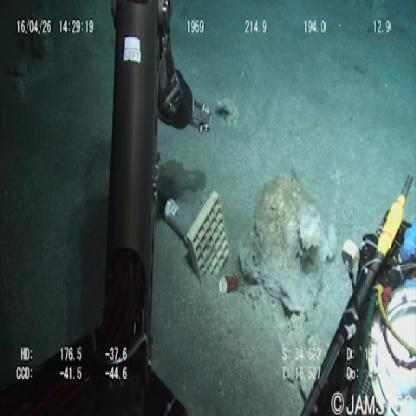Rov: (91, 2, 214, 382), (298, 169, 415, 416), (154, 183, 231, 282)
